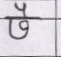ai_matra: (14, 2, 32, 16)
